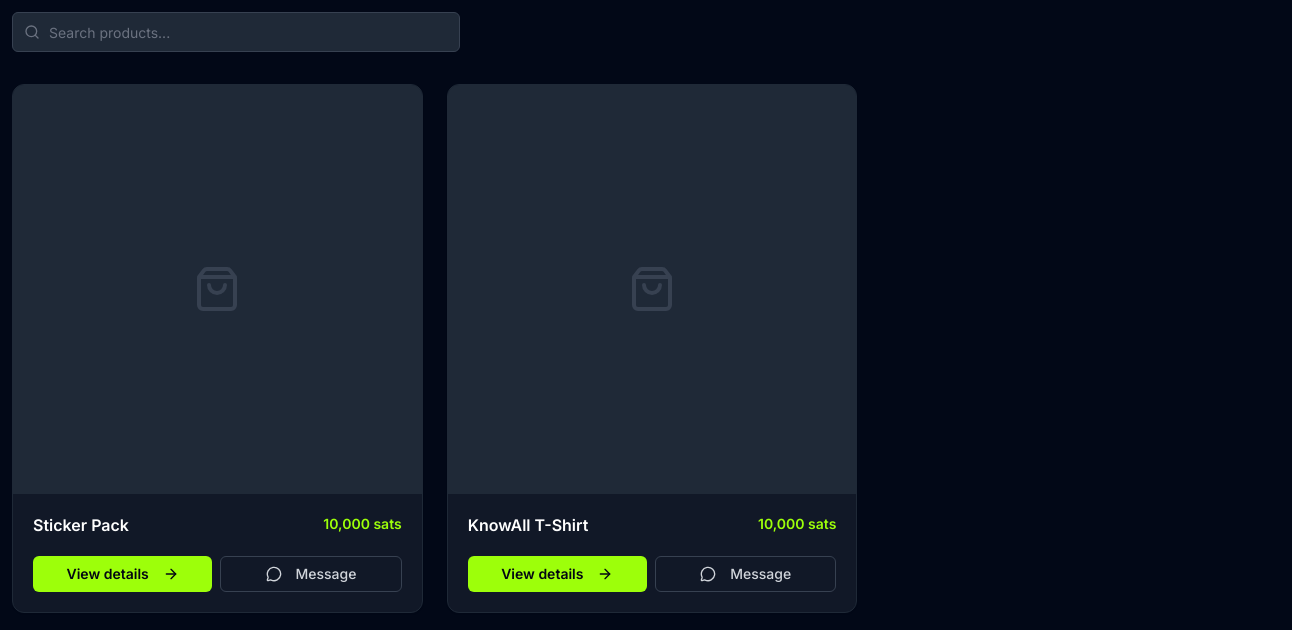
Test: ShopListings › filters listings by search query
In the search field labelled "Search products": (236,32) [12,12,460,52], type "shirt"
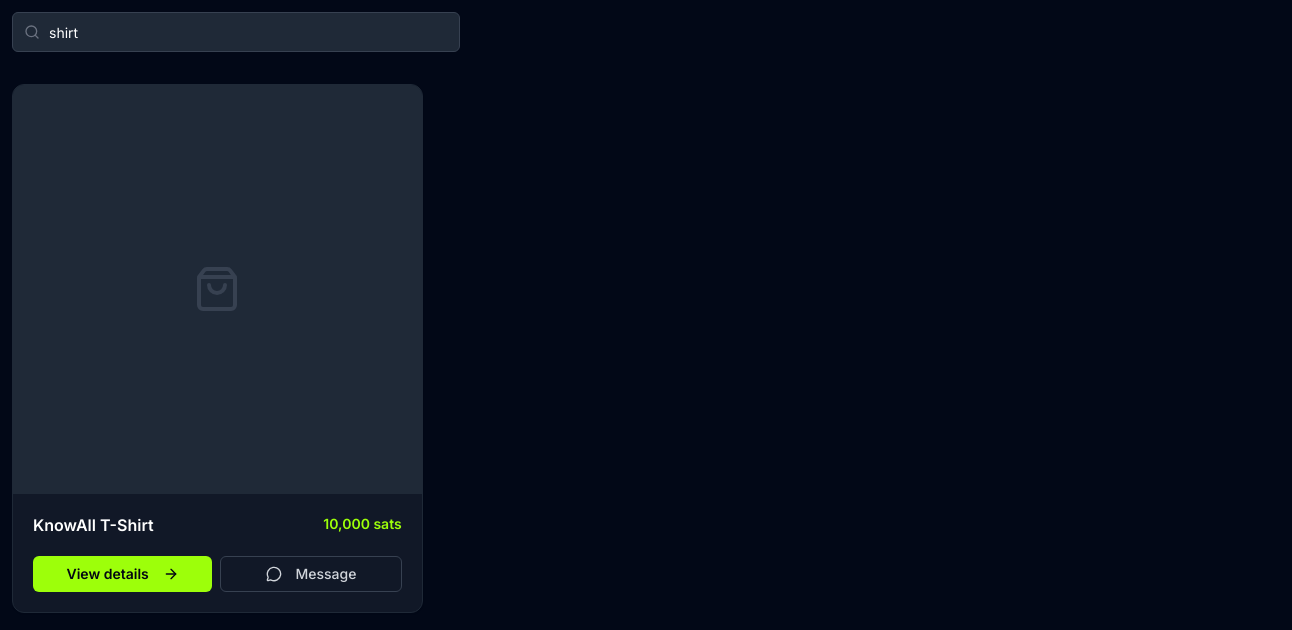
Expected: the link "KnowAll T-Shirt" is shown, [33,515,154,535]
Now the number of elements with test id "product-card" is 1, box [12,84,423,613]
Replace the text in the search field named "Search products" with "zzz-no-match": (236,32) [12,12,460,52]
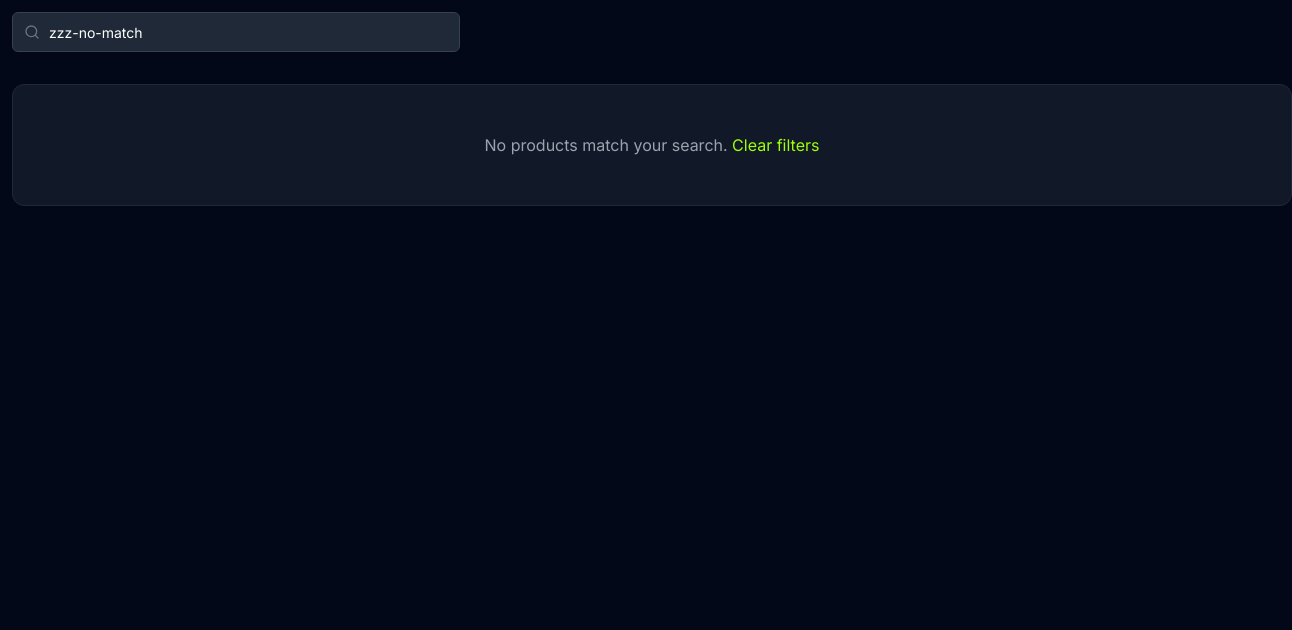
Now the element with test id "shop-no-matches" is shown, box [12,84,1291,206]
